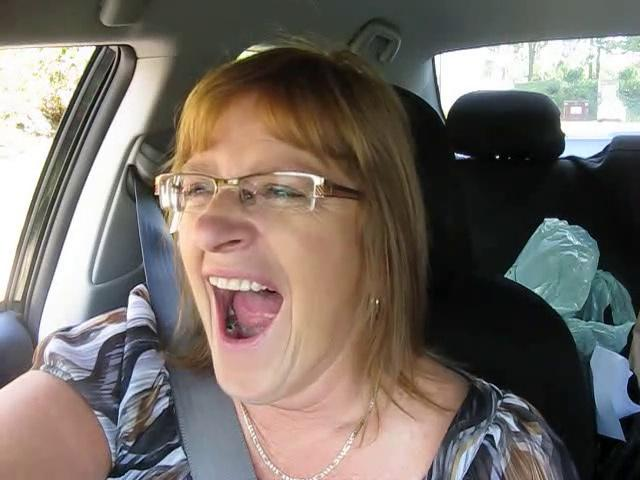close_eyeL: (173, 170, 229, 210)
close_eyeR: (236, 170, 326, 217)
yawn: (189, 261, 308, 354)
